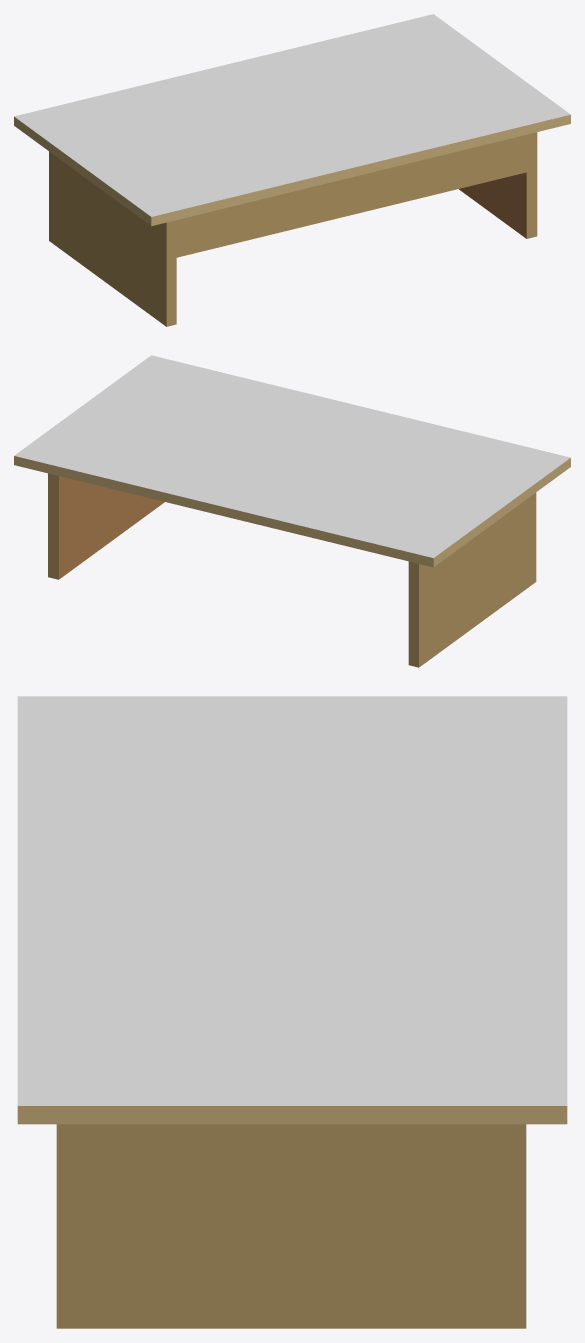
The model's file is Operation Table.glb.
3 renders of one model, top to bottom at view 1: azimuth 30°, elevation 25°; view 2: azimuth 150°, elevation 25°; view 3: azimuth 270°, elevation 25°, orthographic. The views are drawn at different scales.
Parts seen in each view (by area): view 1: Operation Table; view 2: Operation Table; view 3: Operation Table.
Part boxes in pixels (x1,y1,x2,y2): Operation Table: (14,14,570,326); Operation Table: (14,355,570,667); Operation Table: (17,696,567,1328).
Size of the model in its own units: 3.1 by 0.8674 by 1.76.
1 material, 1 textured.
